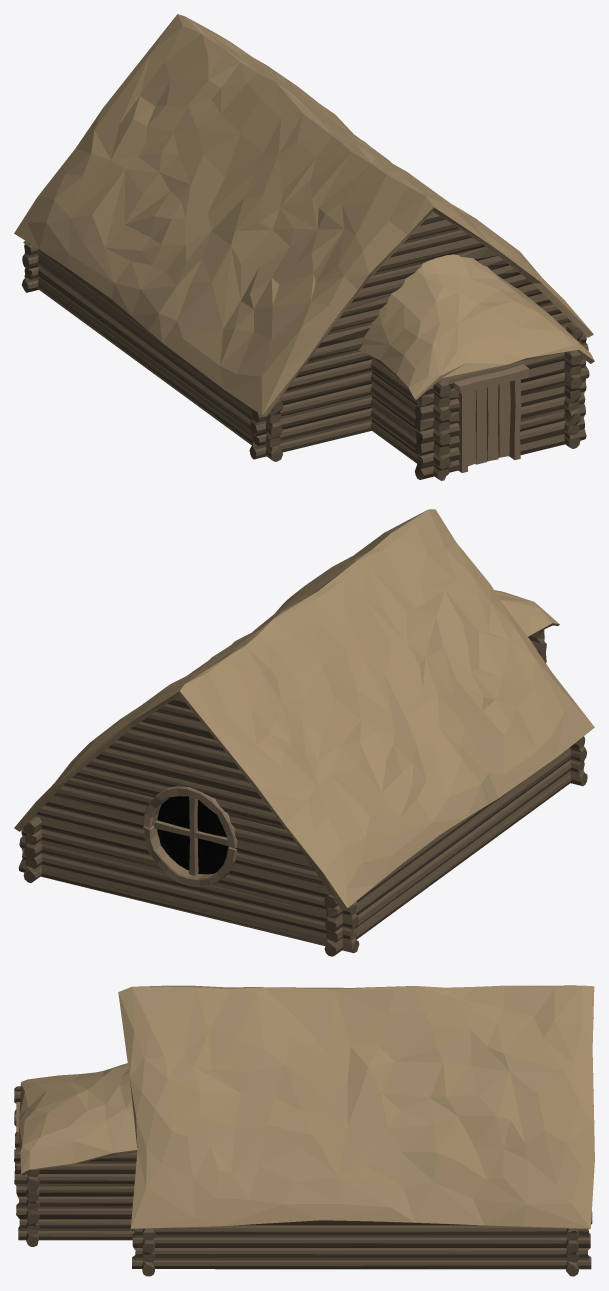
Rendered from village_wood_house_h.FBX.
The picture shows the model from 3 angles, top to bottom: view 1: azimuth 30°, elevation 25°; view 2: azimuth 150°, elevation 25°; view 3: azimuth 270°, elevation 25°; orthographic projection. The views are drawn at different scales.
Parts seen in each view (by area): view 1: village_wood_house_h; view 2: village_wood_house_h; view 3: village_wood_house_h.
Part boxes in pixels (x1,y1,x2,y2): village_wood_house_h: (14,14,594,480); village_wood_house_h: (14,509,594,956); village_wood_house_h: (14,985,594,1276).
Size of the model in its own units: 6.66 by 4.37 by 10.69.
